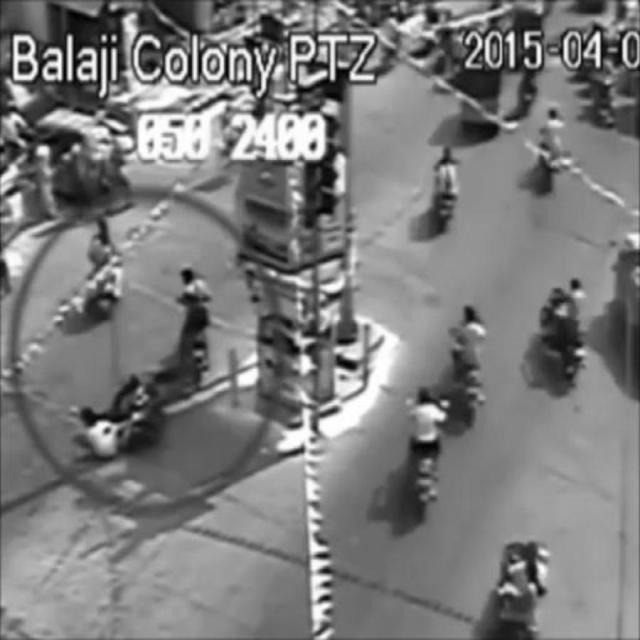vehicle: (72, 372, 166, 460), (403, 388, 449, 525), (536, 277, 588, 387), (173, 265, 215, 396), (79, 214, 130, 316), (451, 302, 486, 430), (461, 65, 501, 131), (538, 106, 562, 197), (433, 145, 457, 225)
